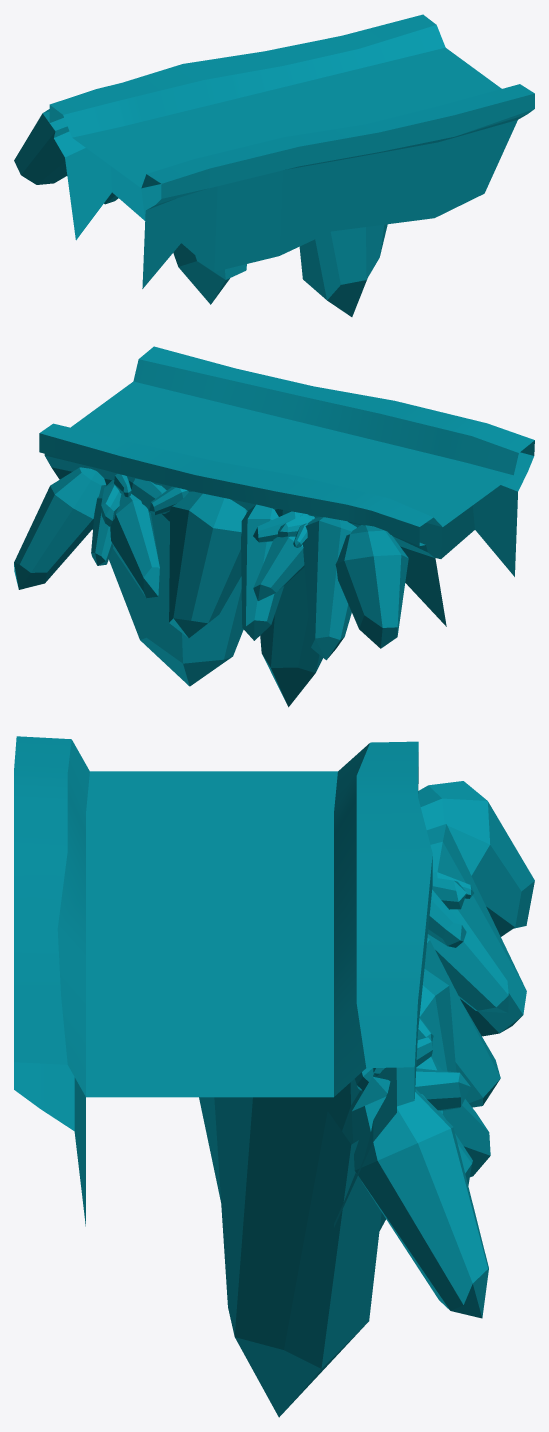
File: Med_Modul_Spacer.fbx
3 renders of one model, top to bottom at view 1: azimuth 30°, elevation 25°; view 2: azimuth 150°, elevation 25°; view 3: azimuth 270°, elevation 25°, orthographic. The views are drawn at different scales.
Parts seen in each view (by area): view 1: Med_Modul_Comb; view 2: Med_Modul_Comb; view 3: Med_Modul_Comb.
Boxes of the visible parts, bbox=[...] form: Med_Modul_Comb: bbox=[14, 14, 534, 316]; Med_Modul_Comb: bbox=[14, 346, 534, 707]; Med_Modul_Comb: bbox=[14, 736, 534, 1417].
Size of the model in its own units: 2.78 by 1.74 by 1.79.
